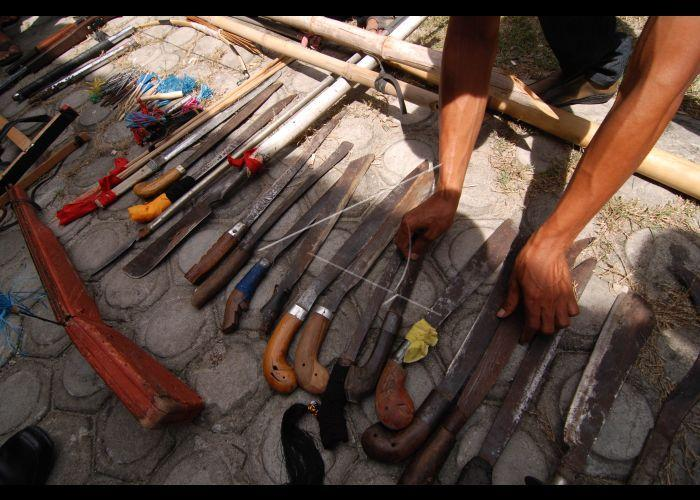facao: (264, 152, 438, 398), (358, 238, 524, 466), (289, 163, 434, 402), (463, 248, 591, 487), (379, 219, 524, 429), (187, 136, 352, 306), (533, 289, 671, 487), (95, 68, 285, 210), (186, 118, 344, 280), (220, 164, 360, 333), (128, 87, 303, 221), (255, 148, 375, 339), (401, 303, 524, 481), (312, 248, 406, 452), (129, 78, 283, 199), (349, 228, 428, 410)
